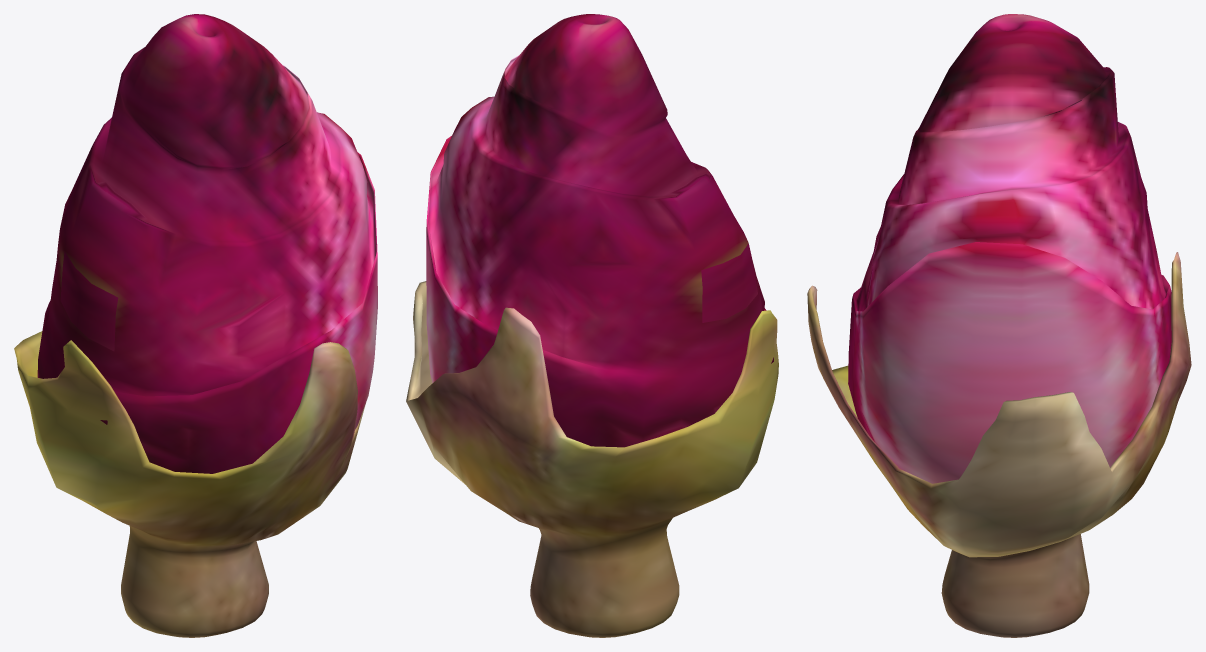
File: DriedRose.fbx
3 views of the same model, side by side, from view 1: azimuth 30°, elevation 25°; view 2: azimuth 150°, elevation 25°; view 3: azimuth 270°, elevation 25° (orthographic).
Visible parts, largest first — view 1: DriedRose; view 2: DriedRose; view 3: DriedRose.
Boxes of the visible parts, <box> form: DriedRose: <box>14,14,377,637</box>; DriedRose: <box>406,14,778,637</box>; DriedRose: <box>807,14,1191,637</box>.
Size of the model in its own units: 99.97 by 178 by 101.
Materials: 1 (1 with a texture image).
